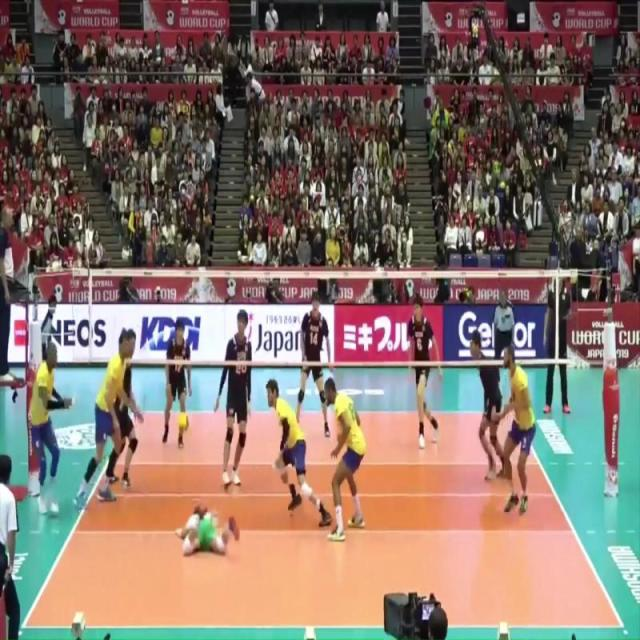volleyball: (176, 408, 191, 434)
